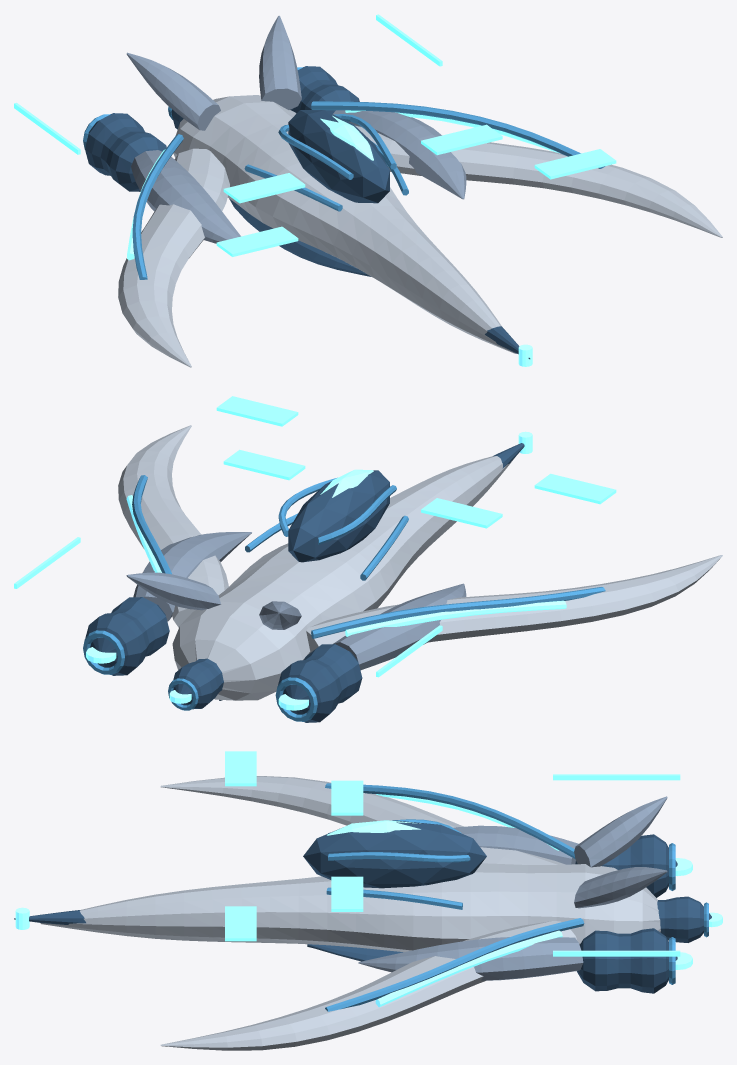
The model's file is SL_PATHFINDER_HQ.glb.
3 renders of one model, top to bottom at view 1: azimuth 30°, elevation 25°; view 2: azimuth 150°, elevation 25°; view 3: azimuth 270°, elevation 25°, orthographic.
Visible parts, largest first — view 1: armor, plate, dark, accent, V59 trim baked, energy; view 2: armor, dark, plate, accent, V59 trim baked, energy; view 3: armor, dark, plate, accent, V59 trim baked, energy.
Boxes of the visible parts, x1,y1,x2,y2 form: armor: [118, 95, 722, 367]; plate: [126, 15, 466, 243]; dark: [85, 66, 530, 359]; accent: [83, 67, 605, 279]; V59 trim baked: [14, 14, 616, 256]; energy: [127, 110, 559, 366]; armor: [118, 425, 722, 700]; dark: [85, 443, 524, 722]; plate: [126, 532, 466, 670]; accent: [83, 475, 605, 721]; V59 trim baked: [14, 396, 616, 677]; energy: [86, 431, 566, 710]; armor: [40, 776, 660, 1050]; dark: [14, 820, 711, 993]; plate: [358, 796, 667, 980]; accent: [325, 783, 708, 1011]; V59 trim baked: [225, 751, 680, 956]; energy: [15, 794, 722, 1007].
Bounding box in the file's own units: 5.91 × 1.53 × 6.62.
